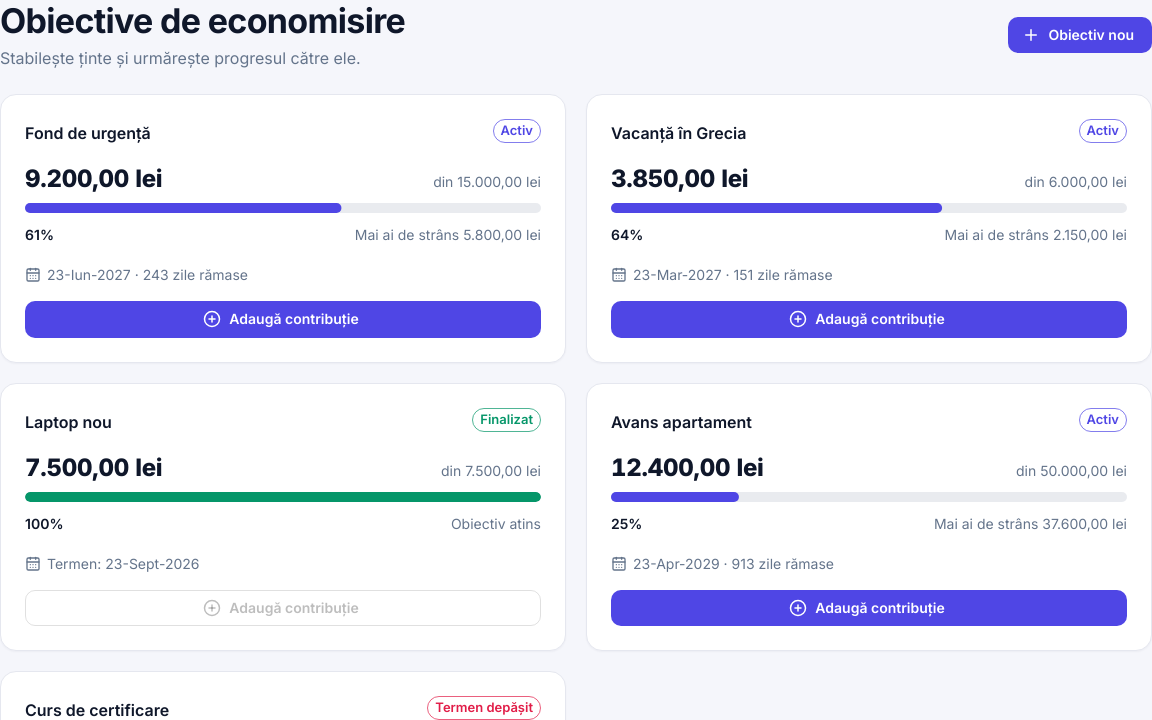
Test case: GoalsPage › respinge o contribuție invalidă
Click the button "Adaugă contribuție" below "23-Iun-2027 · 243 zile rămase".
click(283, 319)  # box [25,301,541,338]
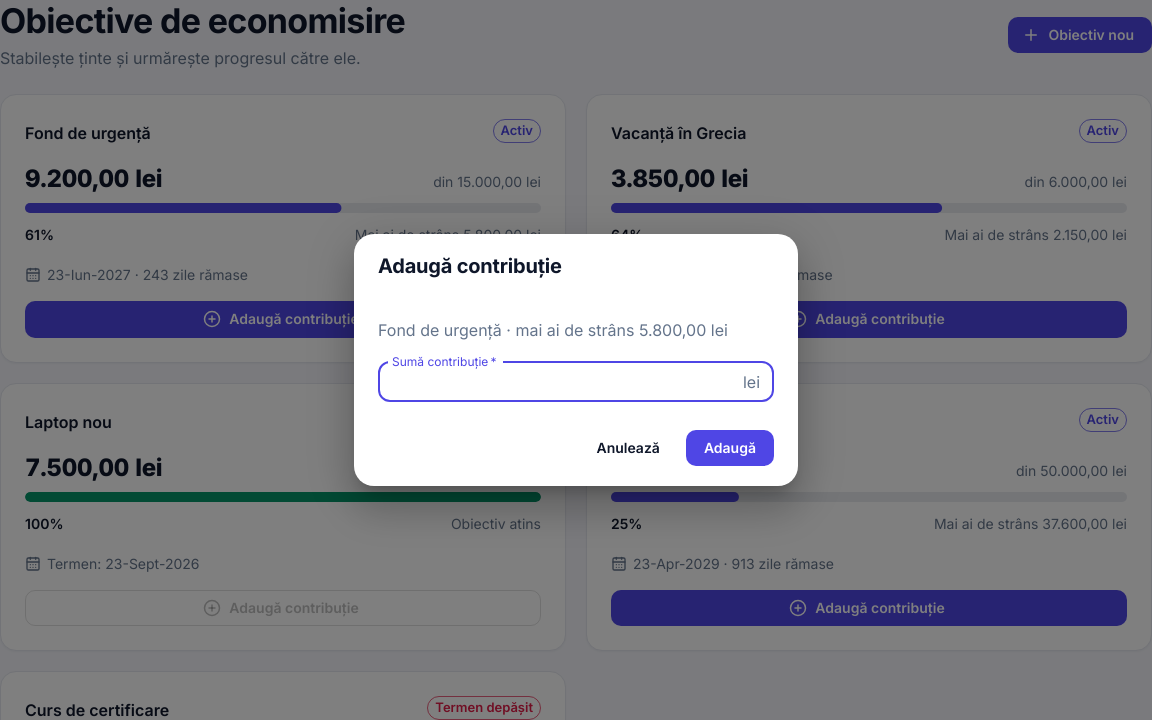
Type "-10" into the field labelled "Sumă contribuție *".
click(556, 382); type("-10")  # box [378,362,735,402]
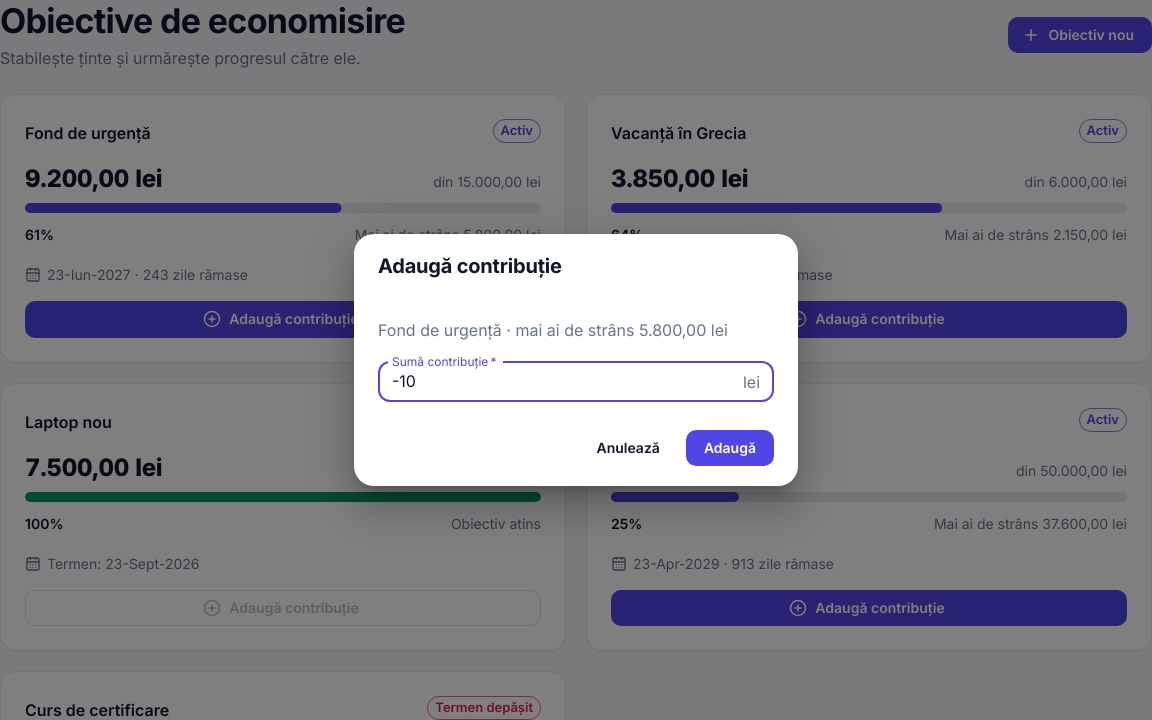
Click the button "Adaugă".
click(730, 448)  # box [686,430,774,466]
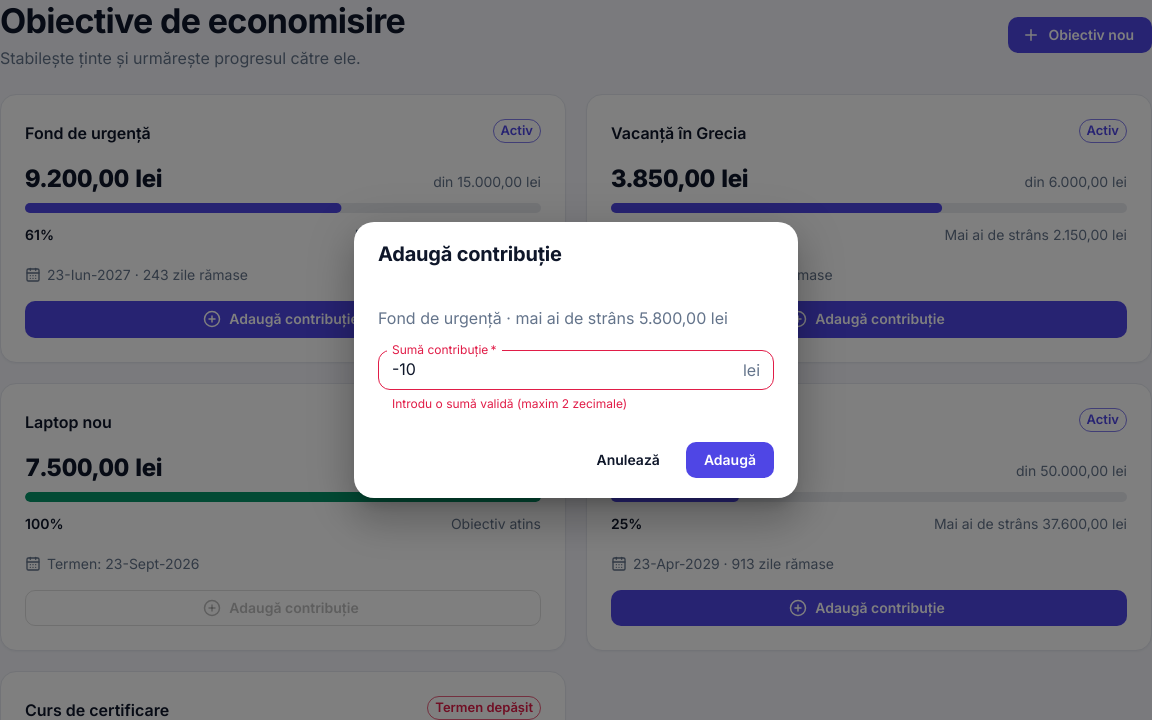
Now the text "Introdu o sumă validă (maxim 2 zecimale)" is shown, box [392,396,627,411]
